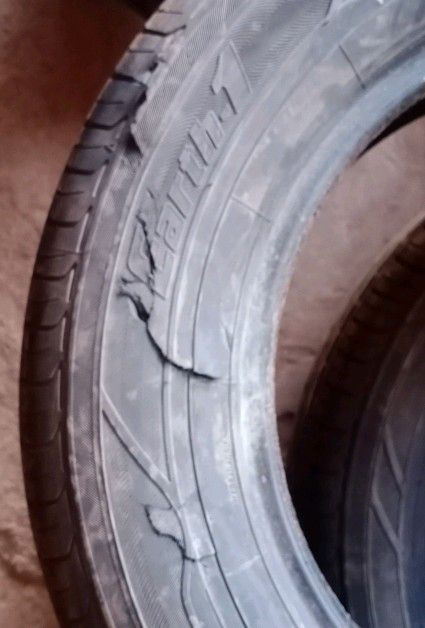cut: (115, 212, 214, 381), (117, 29, 194, 164), (139, 499, 223, 567)
